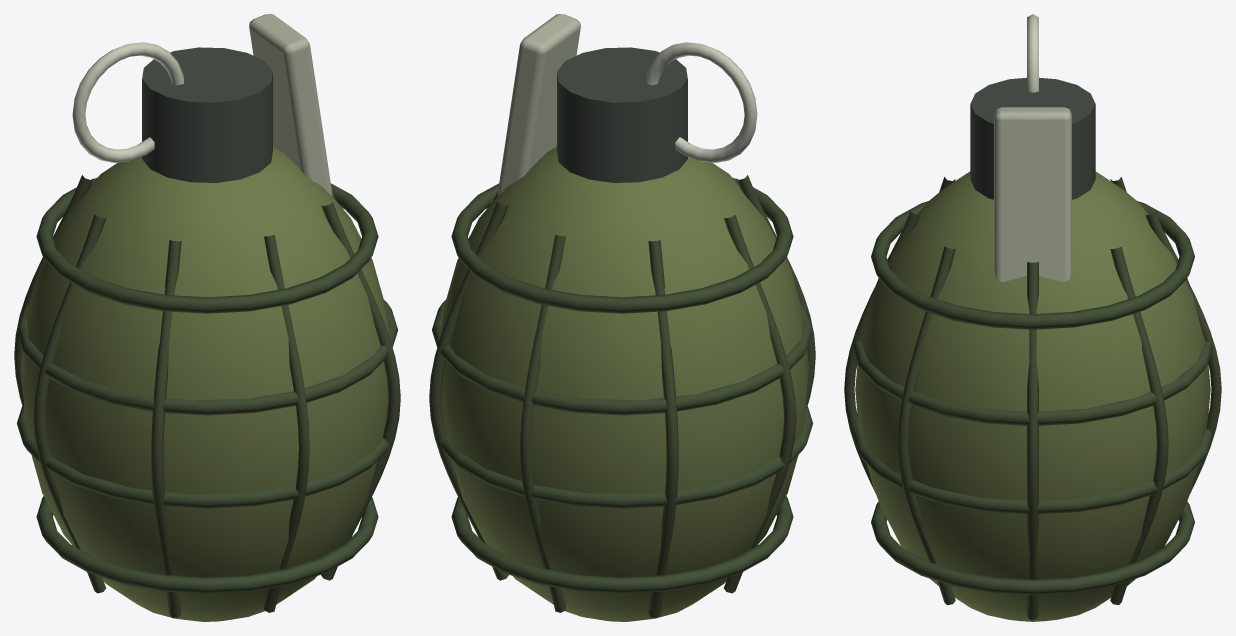
3 views of the same model, side by side, from view 1: azimuth 30°, elevation 25°; view 2: azimuth 150°, elevation 25°; view 3: azimuth 270°, elevation 25° (orthographic). The views are drawn at different scales.
Visible parts, largest first — view 1: he; view 2: he; view 3: he.
Part boxes in pixels (<box>): he: <box>14,14,400,621</box>; he: <box>429,14,815,621</box>; he: <box>844,14,1221,621</box>.
Size of the model in its own units: 0.1932 by 0.3135 by 0.1932.
